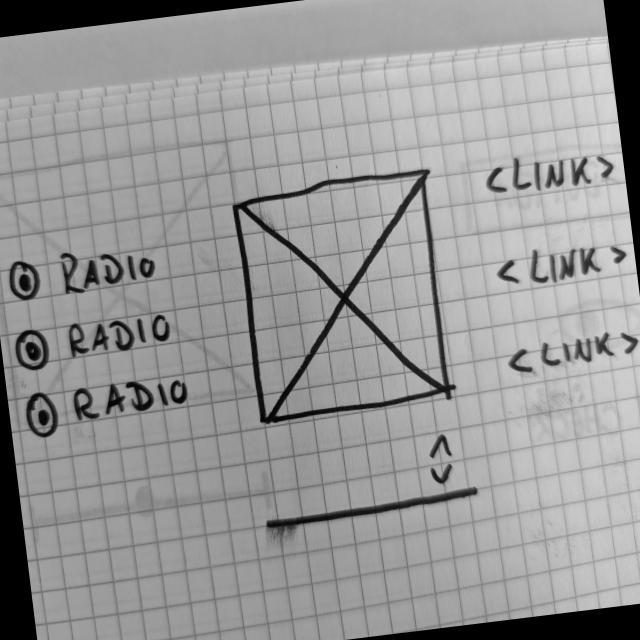image: (227, 164, 460, 435)
link: (481, 141, 620, 203), (491, 235, 632, 294), (503, 324, 640, 381)
number-input: (254, 423, 484, 537)
radio: (24, 371, 196, 443), (11, 309, 176, 376), (5, 240, 162, 308)
